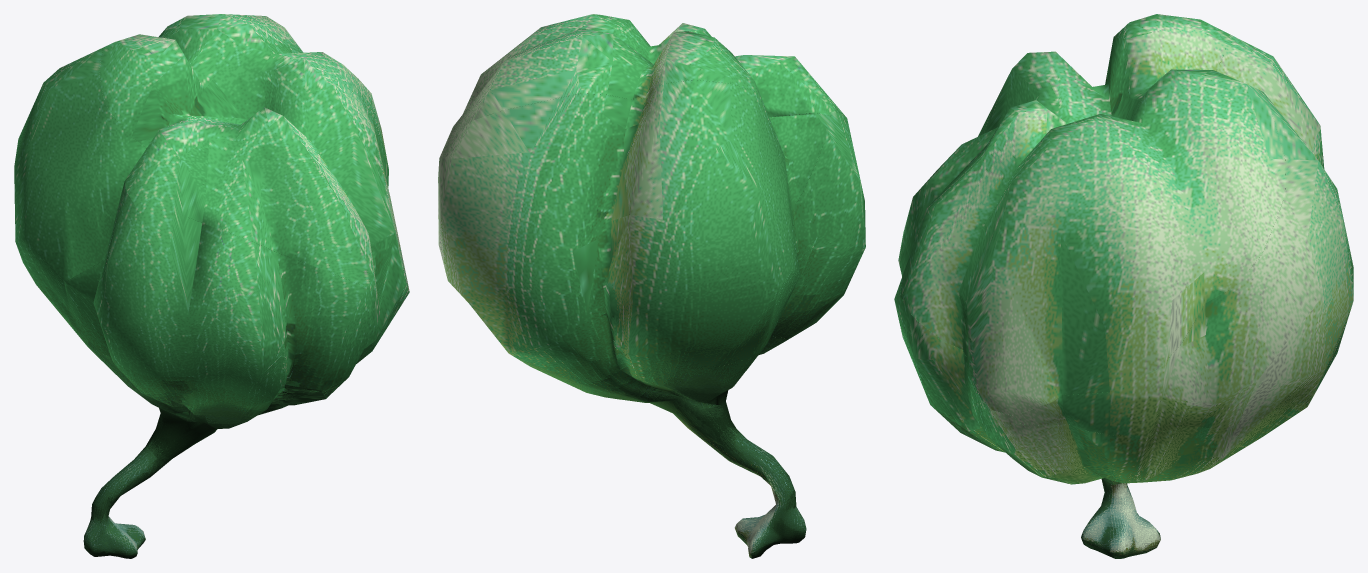
The model's file is plant_decoy.glb.
3 views of the same model, side by side, from view 1: azimuth 30°, elevation 25°; view 2: azimuth 150°, elevation 25°; view 3: azimuth 270°, elevation 25° (orthographic). The views are drawn at different scales.
Parts seen in each view (by area): view 1: tree_obj_low.003_cell.002, tree_obj_low.003_cell.001, tree_obj_low.003_cell.003, tree_obj_low.003_cell; view 2: tree_obj_low.003_cell.003, tree_obj_low.003_cell.002, tree_obj_low.003_cell, tree_obj_low.003_cell.001; view 3: tree_obj_low.003_cell.002, tree_obj_low.003_cell.003, tree_obj_low.003_cell, tree_obj_low.003_cell.001.
Boxes of the visible parts, left/top/right/bottom form: tree_obj_low.003_cell.002: left=99, top=14, right=409, bottom=304; tree_obj_low.003_cell.001: left=66, top=194, right=401, bottom=406; tree_obj_low.003_cell.003: left=14, top=28, right=165, bottom=330; tree_obj_low.003_cell: left=83, top=334, right=382, bottom=558; tree_obj_low.003_cell.003: left=438, top=80, right=830, bottom=369; tree_obj_low.003_cell.002: left=447, top=14, right=835, bottom=139; tree_obj_low.003_cell: left=500, top=336, right=806, bottom=558; tree_obj_low.003_cell.001: left=748, top=104, right=865, bottom=359; tree_obj_low.003_cell.002: left=900, top=14, right=1285, bottom=415; tree_obj_low.003_cell.003: left=1013, top=26, right=1353, bottom=437; tree_obj_low.003_cell: left=941, top=392, right=1315, bottom=558; tree_obj_low.003_cell.001: left=894, top=111, right=1020, bottom=425.
Bounding box in the file's own units: 14.12 × 19.7 × 14.61.
Materials: 1 (1 with a texture image).
